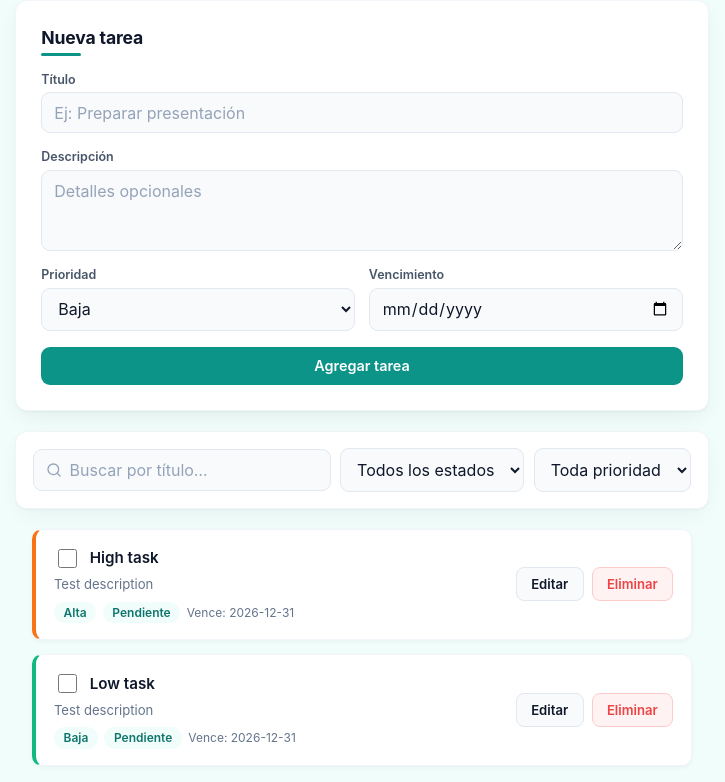
Test: FilteredTaskList › filters tasks by priority
Select "Alta" in the 2nd dropdown showing "Toda prioridad" at (612, 470), box [534,448,691,492]
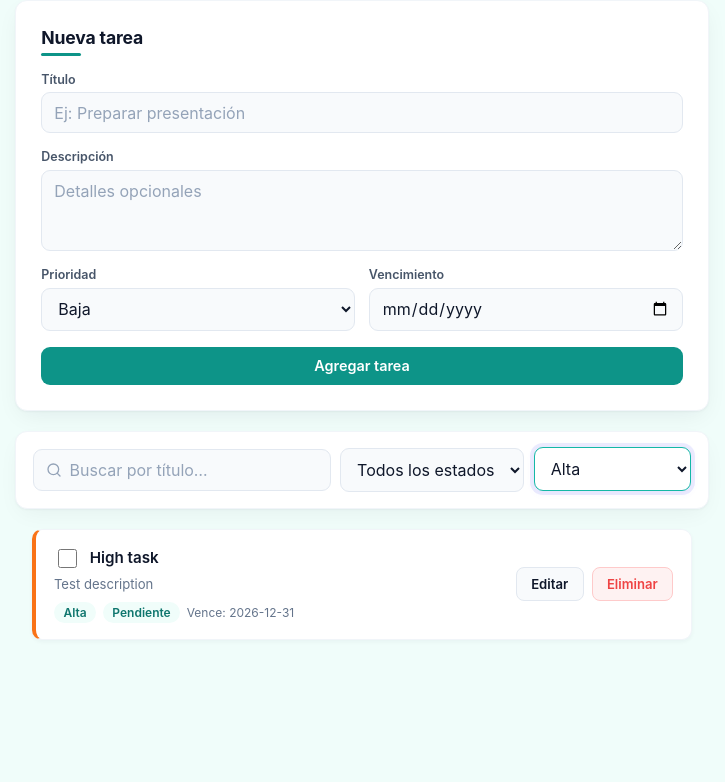
Expected: the text "High task" is shown, [90,548,159,569]
Expected: the text "Low task" is gone
